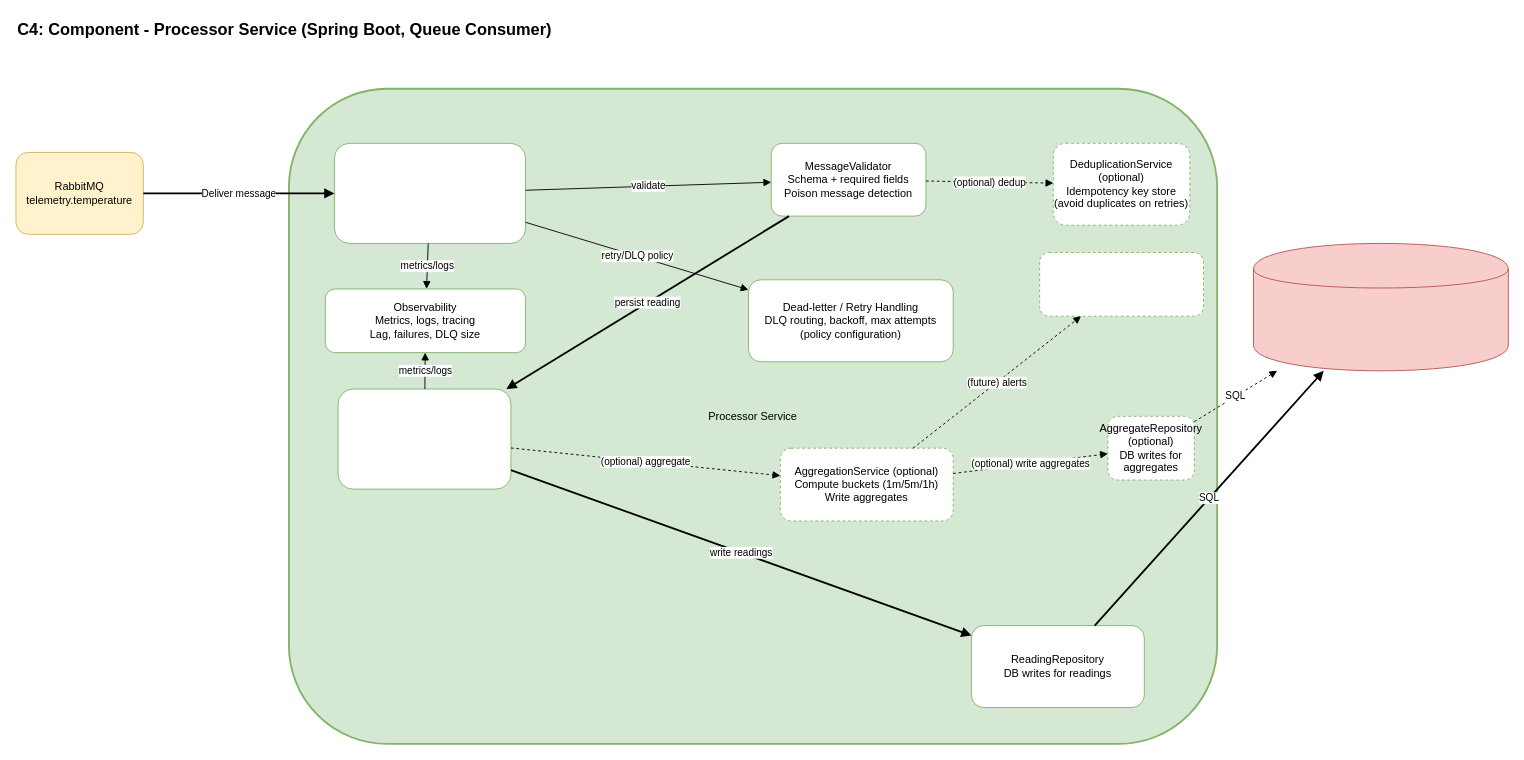
This 1524x760 diagram has some shape labels left out. Each missing label, with the centre of its shape:
"AlertingRules (future) Thresholds, anomaly detection Send notifications" belongs at pixel 1121 284.
"PostgreSQL" belongs at pixel 1380 307.
"ReadingPersistenceService Persists readings Transactional write" belongs at pixel 424 438.
"TelemetryConsumer AMQP listener Manual ACK / retry policy" belongs at pixel 430 192.
